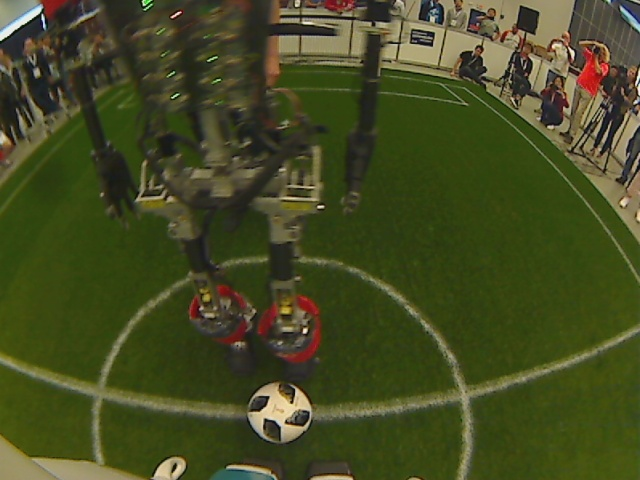ball: (244, 378, 318, 447)
